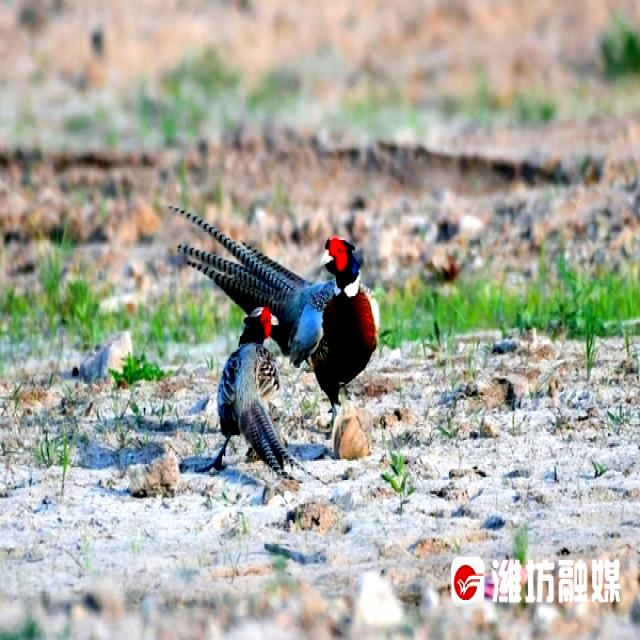Phasianus Colchicus: (163, 206, 309, 322), (239, 401, 327, 484)
